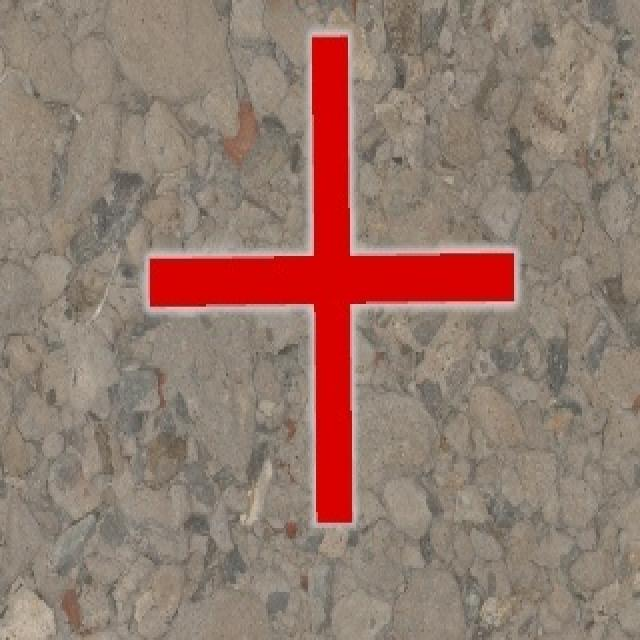x_marker: (147, 34, 515, 522)
